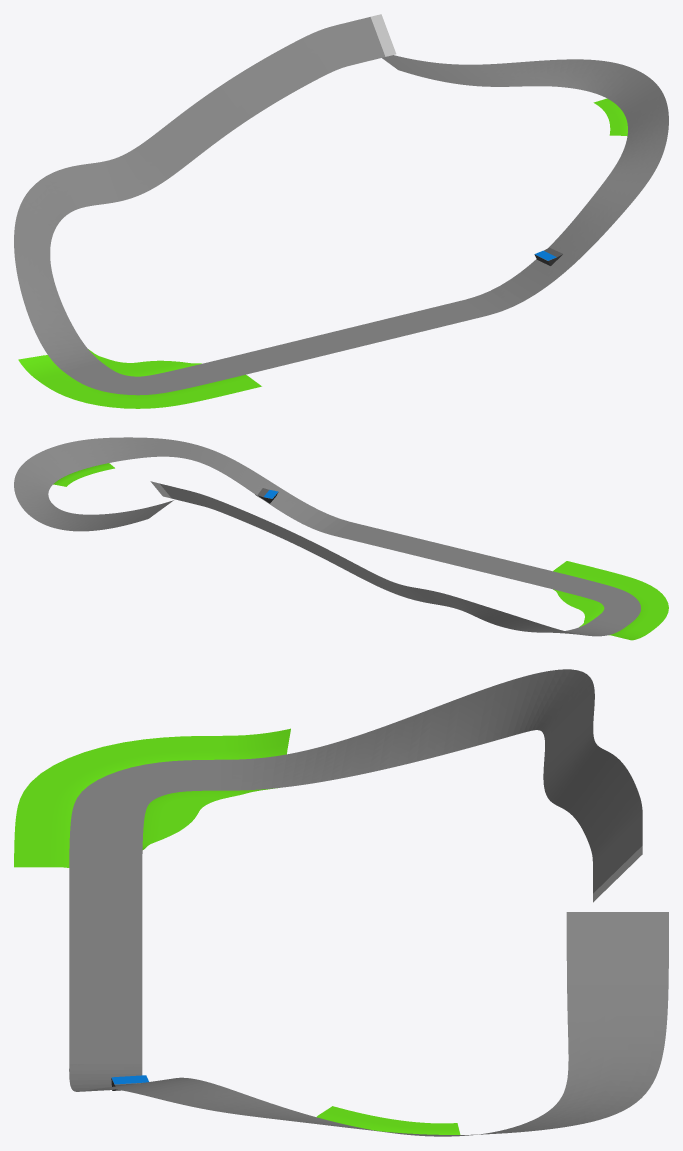
File: KLCModel.fbx
The picture shows the model from 3 angles, top to bottom: view 1: azimuth 30°, elevation 25°; view 2: azimuth 150°, elevation 25°; view 3: azimuth 270°, elevation 25°; orthographic projection. The views are drawn at different scales.
Visible parts, largest first — view 1: COL_0000, KCL_Grass; view 2: COL_0000, KCL_Grass; view 3: COL_0000, KCL_Grass.
Part boxes in pixels (x1,y1,x2,y2): COL_0000: [14, 17, 668, 395]; KCL_Grass: [18, 98, 627, 408]; COL_0000: [14, 437, 640, 636]; KCL_Grass: [53, 463, 668, 640]; COL_0000: [69, 669, 668, 1136]; KCL_Grass: [14, 728, 460, 1134].
Size of the model in its own units: 4474 by 1003 by 2258.
